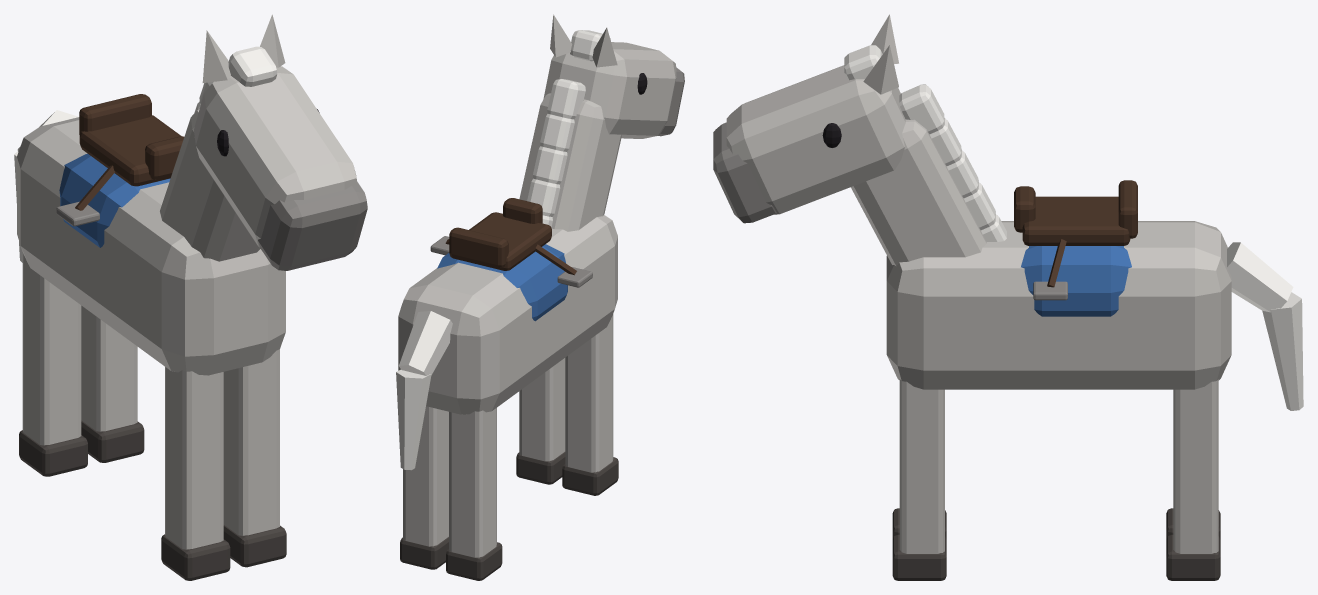
File: horse_grey.glb
The picture shows the model from 3 angles, left to right: view 1: azimuth 30°, elevation 25°; view 2: azimuth 150°, elevation 25°; view 3: azimuth 270°, elevation 25°; orthographic projection. The views are drawn at different scales.
Visible parts, largest first — view 1: body_mesh, head_mesh, leg_fr_mesh, leg_br_mesh, leg_fl_mesh, saddle_mesh, leg_bl_mesh, ear_r_mesh, ear_l_mesh; view 2: body_mesh, head_mesh, saddle_mesh, leg_br_mesh, leg_fr_mesh, leg_bl_mesh, leg_fl_mesh, tail_mesh, ear_r_mesh, ear_l_mesh; view 3: body_mesh, head_mesh, saddle_mesh, leg_fl_mesh, leg_bl_mesh, tail_mesh, ear_l_mesh.
Boxes of the visible parts, x1,y1,x2,y2 form: body_mesh: [17, 117, 285, 375]; head_mesh: [160, 46, 367, 270]; leg_fr_mesh: [161, 367, 230, 580]; leg_br_mesh: [19, 252, 87, 476]; leg_fl_mesh: [223, 349, 286, 567]; saddle_mesh: [56, 94, 184, 247]; leg_bl_mesh: [81, 305, 144, 462]; ear_r_mesh: [202, 30, 230, 82]; ear_l_mesh: [260, 14, 285, 67]; body_mesh: [398, 215, 617, 414]; head_mesh: [519, 30, 684, 231]; saddle_mesh: [430, 198, 592, 321]; leg_br_mesh: [446, 408, 502, 580]; leg_fr_mesh: [562, 314, 618, 495]; leg_bl_mesh: [400, 406, 448, 569]; leg_fl_mesh: [516, 358, 565, 484]; tail_mesh: [396, 311, 452, 470]; ear_r_mesh: [592, 27, 617, 67]; ear_l_mesh: [550, 14, 572, 57]; body_mesh: [886, 221, 1231, 389]; head_mesh: [713, 45, 1006, 266]; saddle_mesh: [1014, 180, 1137, 316]; leg_fl_mesh: [892, 379, 946, 580]; leg_bl_mesh: [1166, 379, 1220, 580]; tail_mesh: [1227, 242, 1303, 410]; ear_l_mesh: [863, 45, 898, 94].
Size of the model in its own units: 0.94 by 2.71 by 2.74.
